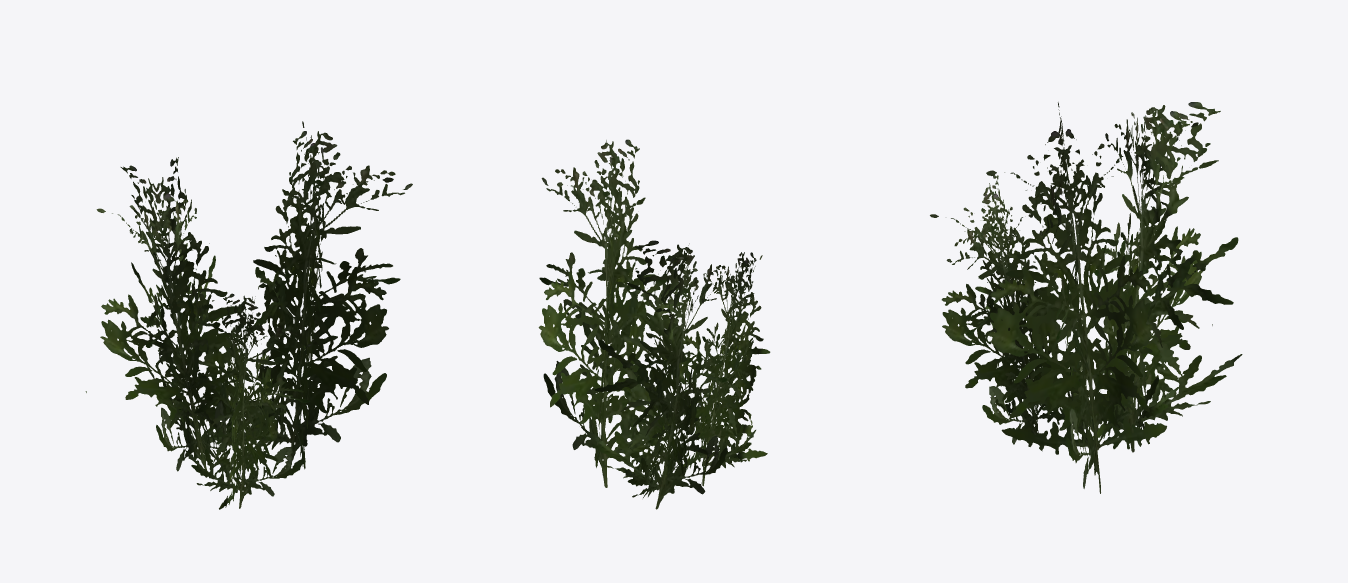
File: KM_VOB_PLANT_03.glb
3 views of the same model, side by side, from view 1: azimuth 30°, elevation 25°; view 2: azimuth 150°, elevation 25°; view 3: azimuth 270°, elevation 25° (orthographic). The views are drawn at different scales.
Parts seen in each view (by area): view 1: Mesh; view 2: Mesh; view 3: Mesh.
Part boxes in pixels (x1,y1,x2,y2): Mesh: [85, 121, 412, 509]; Mesh: [538, 139, 770, 509]; Mesh: [930, 102, 1242, 493].
Size of the model in its own units: 1.03 by 1.29 by 1.13.
1 material, 1 textured.
